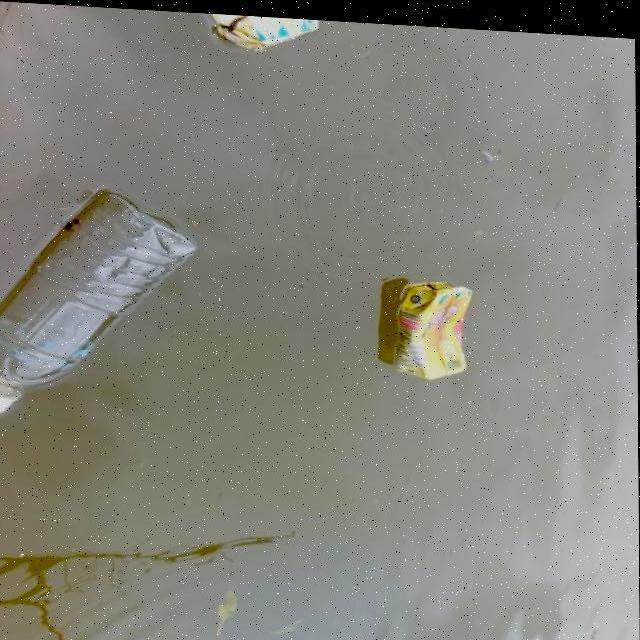Bottle: (0, 181, 204, 427)
Box: (378, 266, 486, 388)
